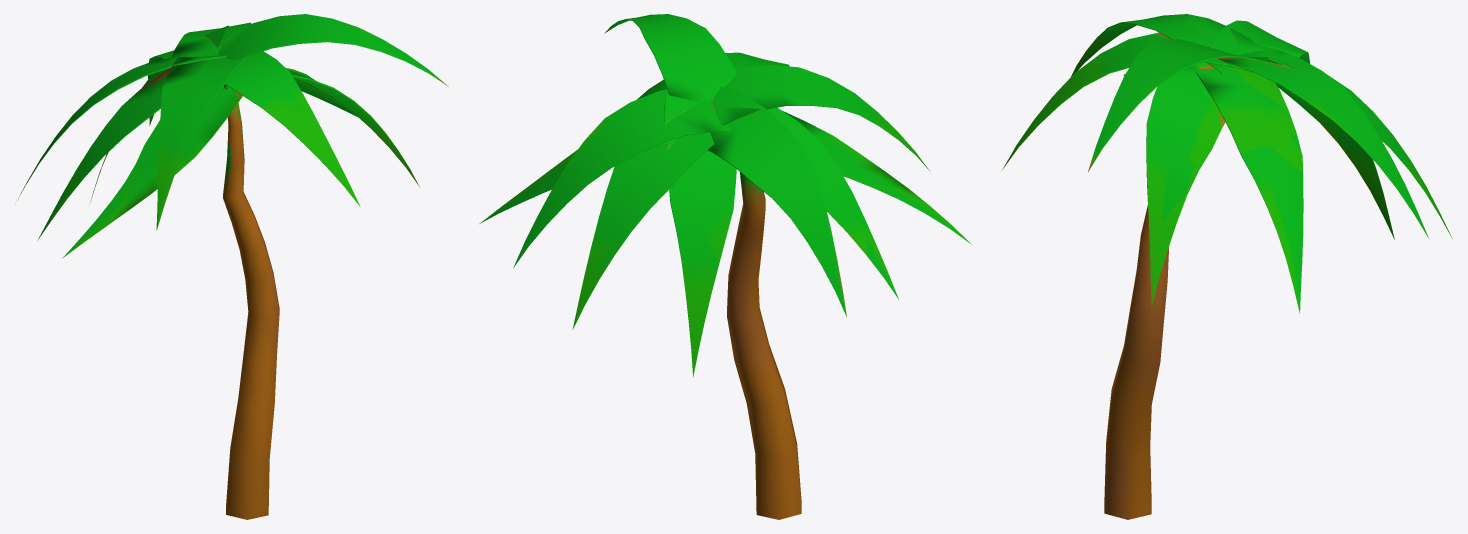
File: Tree.obj
3 renders of one model, left to right at view 1: azimuth 30°, elevation 25°; view 2: azimuth 150°, elevation 25°; view 3: azimuth 270°, elevation 25°, orthographic. The views are drawn at different scales.
Visible parts, largest first — view 1: Tree; view 2: Tree; view 3: Tree.
Part boxes in pixels (x1,y1,x2,y2): Tree: (17, 14, 448, 519); Tree: (479, 14, 971, 519); Tree: (1002, 14, 1452, 519).
Bounding box in the file's own units: 14.36 × 15.74 × 12.94.
